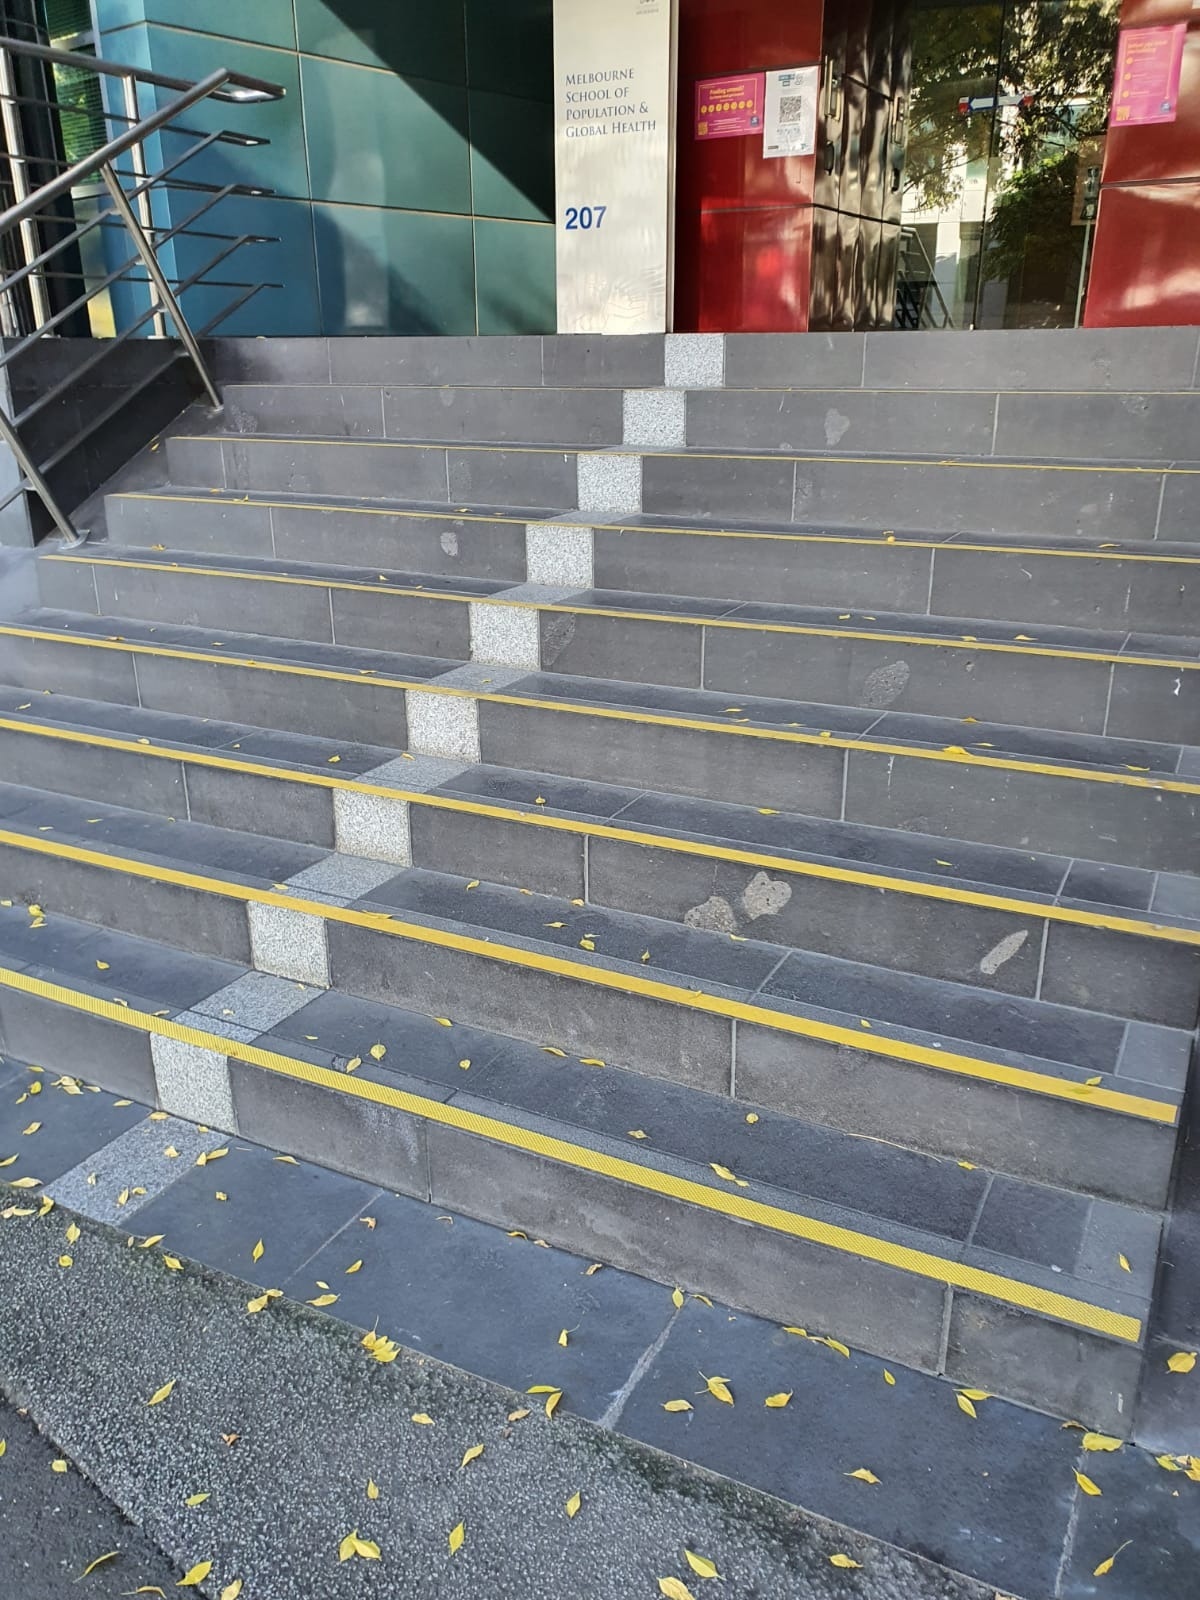upstairs: (226, 578, 1185, 1432)
